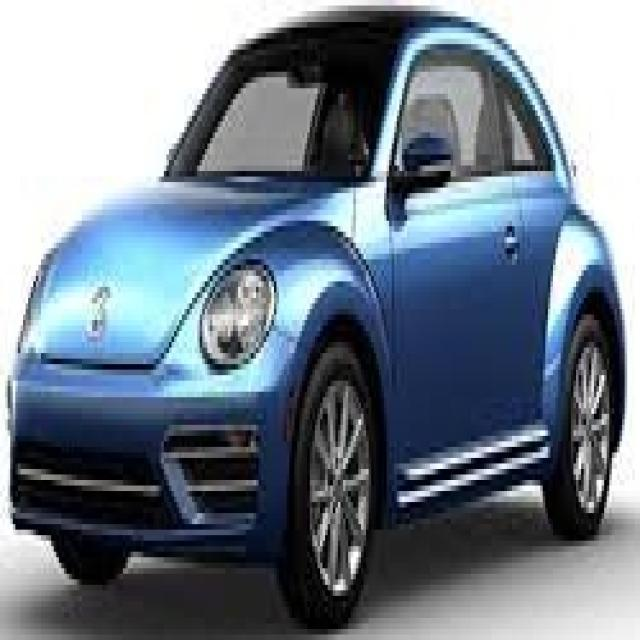blue: (8, 6, 629, 568)
